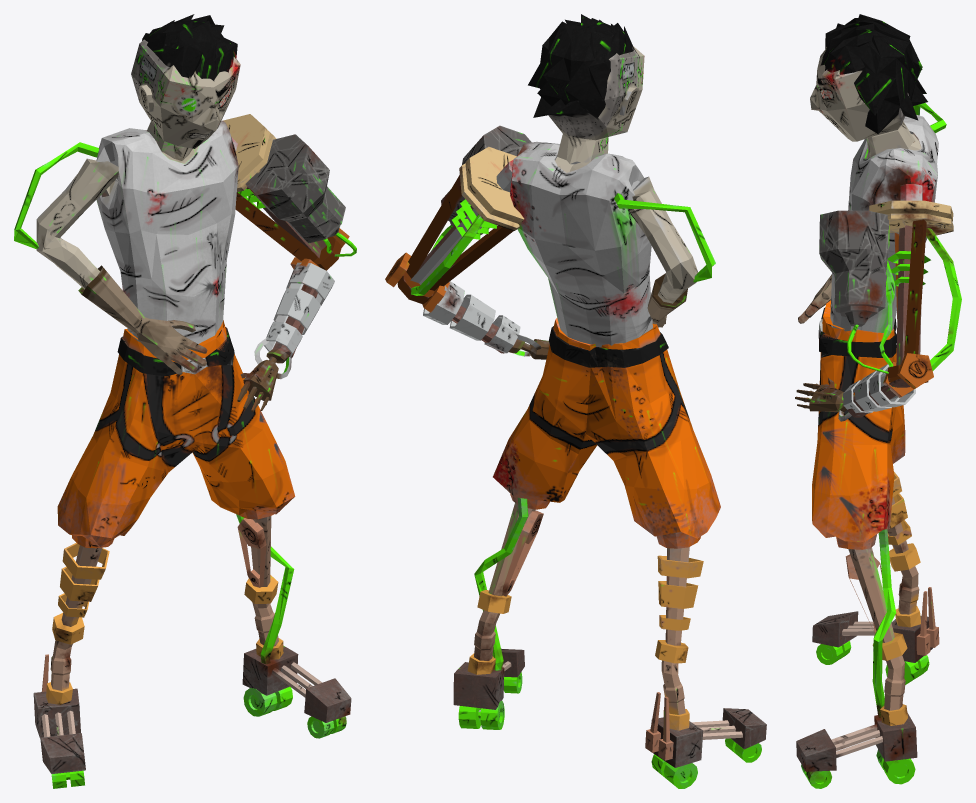
The model's file is CyborgFINALAnimation_000020.obj.
3 renders of one model, left to right at view 1: azimuth 30°, elevation 25°; view 2: azimuth 150°, elevation 25°; view 3: azimuth 270°, elevation 25°, orthographic. The views are drawn at different scales.
Visible parts, largest first — view 1: CyborgMesh_Cube.002; view 2: CyborgMesh_Cube.002; view 3: CyborgMesh_Cube.002.
Part boxes in pixels (box(x1,y1,x2,y2)): CyborgMesh_Cube.002: box(14, 14, 356, 788); CyborgMesh_Cube.002: box(385, 14, 766, 788); CyborgMesh_Cube.002: box(795, 14, 961, 788).
Bounding box in the file's own units: 4.69 × 9.6 × 2.04.
